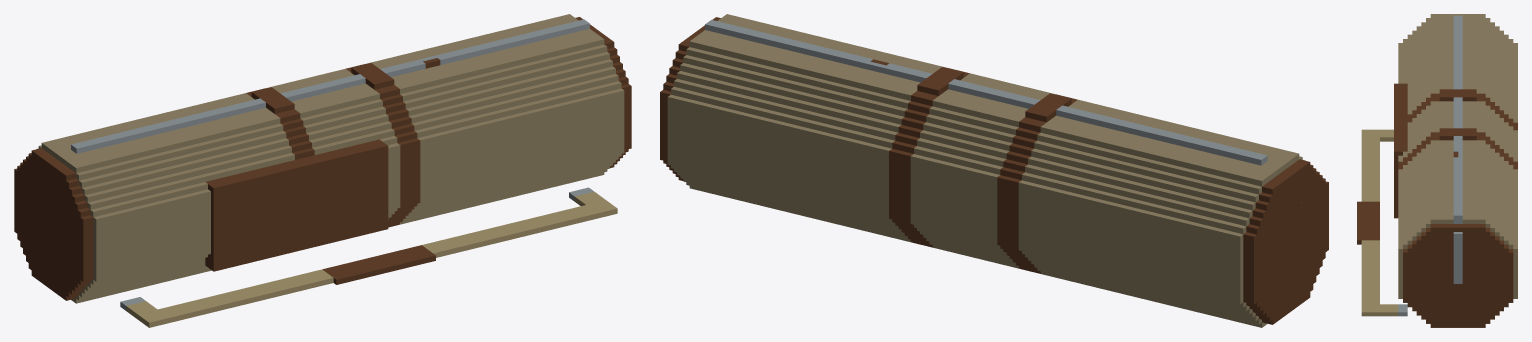
The model's file is long_duffelbag.glb.
The picture shows the model from 3 angles, left to right: view 1: azimuth 30°, elevation 25°; view 2: azimuth 150°, elevation 25°; view 3: azimuth 270°, elevation 25°; orthographic projection. The views are drawn at different scales.
Visible parts, largest first — view 1: long_duffelbag:compound; view 2: long_duffelbag:compound; view 3: long_duffelbag:compound.
Part boxes in pixels (bbox=[...]): long_duffelbag:compound: bbox=[14, 14, 631, 327]; long_duffelbag:compound: bbox=[660, 14, 1328, 327]; long_duffelbag:compound: bbox=[1357, 14, 1517, 327].
Bounding box in the file's own units: 1.11 × 0.27 × 0.35.
